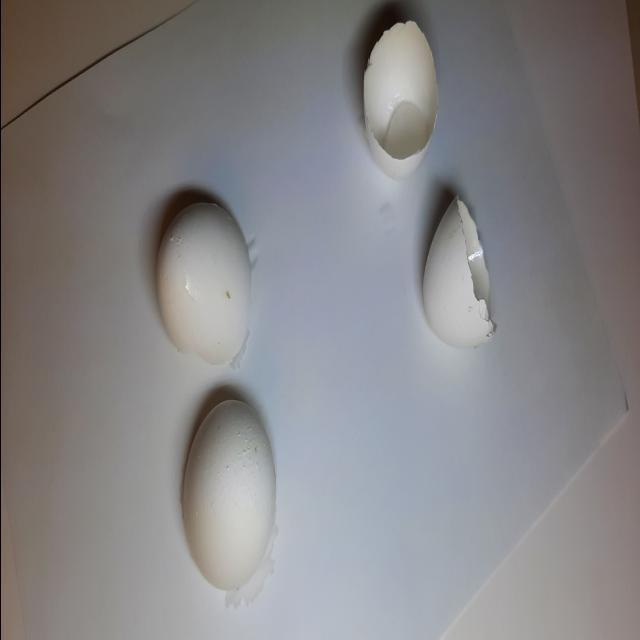egg shell: (145, 171, 259, 379), (178, 382, 278, 596), (346, 12, 448, 192), (409, 174, 503, 358)
